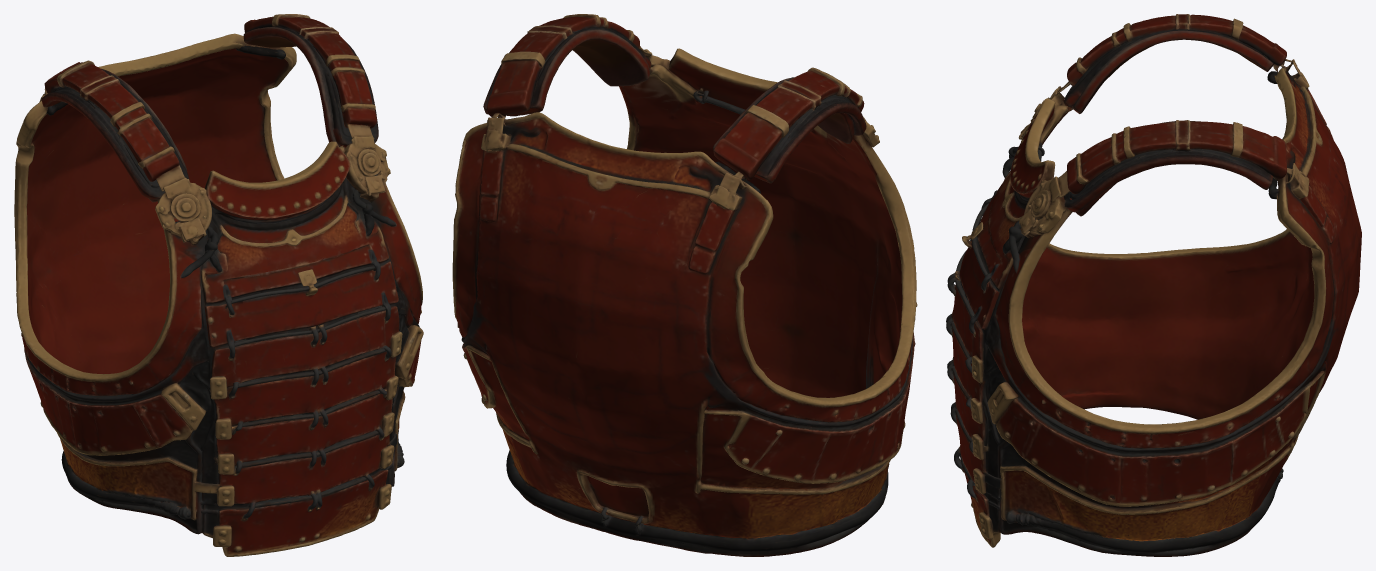
File: do-front.glb
The picture shows the model from 3 angles, left to right: view 1: azimuth 30°, elevation 25°; view 2: azimuth 150°, elevation 25°; view 3: azimuth 270°, elevation 25°; orthographic projection. The views are drawn at different scales.
Parts seen in each view (by area): view 1: geometry_0; view 2: geometry_0; view 3: geometry_0.
Part boxes in pixels (x1,y1,x2,y2): geometry_0: [14, 14, 423, 556]; geometry_0: [452, 14, 917, 556]; geometry_0: [946, 14, 1361, 556].
Size of the model in its own units: 0.876 by 0.9971 by 0.8557.
Materials: 1 (1 with a texture image).
